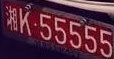K: (20, 8, 31, 36)
